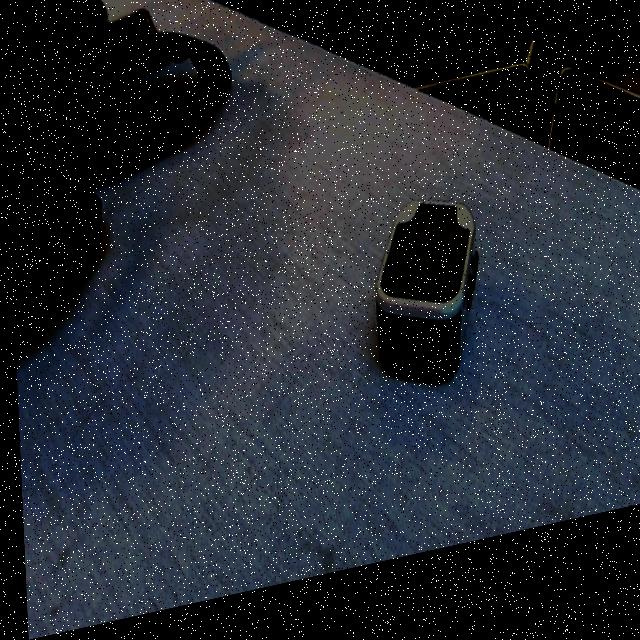adapter: (367, 205, 480, 414)
